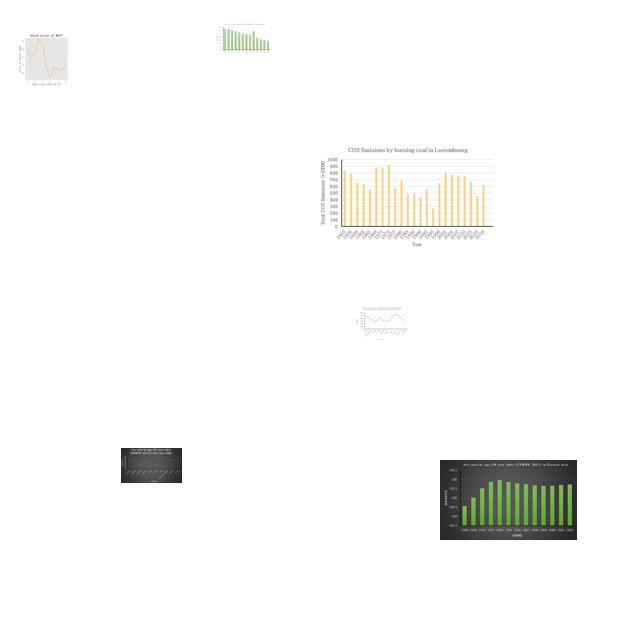Graph: (318, 145, 495, 248), (440, 460, 577, 540), (9, 31, 82, 86), (121, 448, 182, 483), (215, 23, 271, 56), (356, 307, 409, 341)
